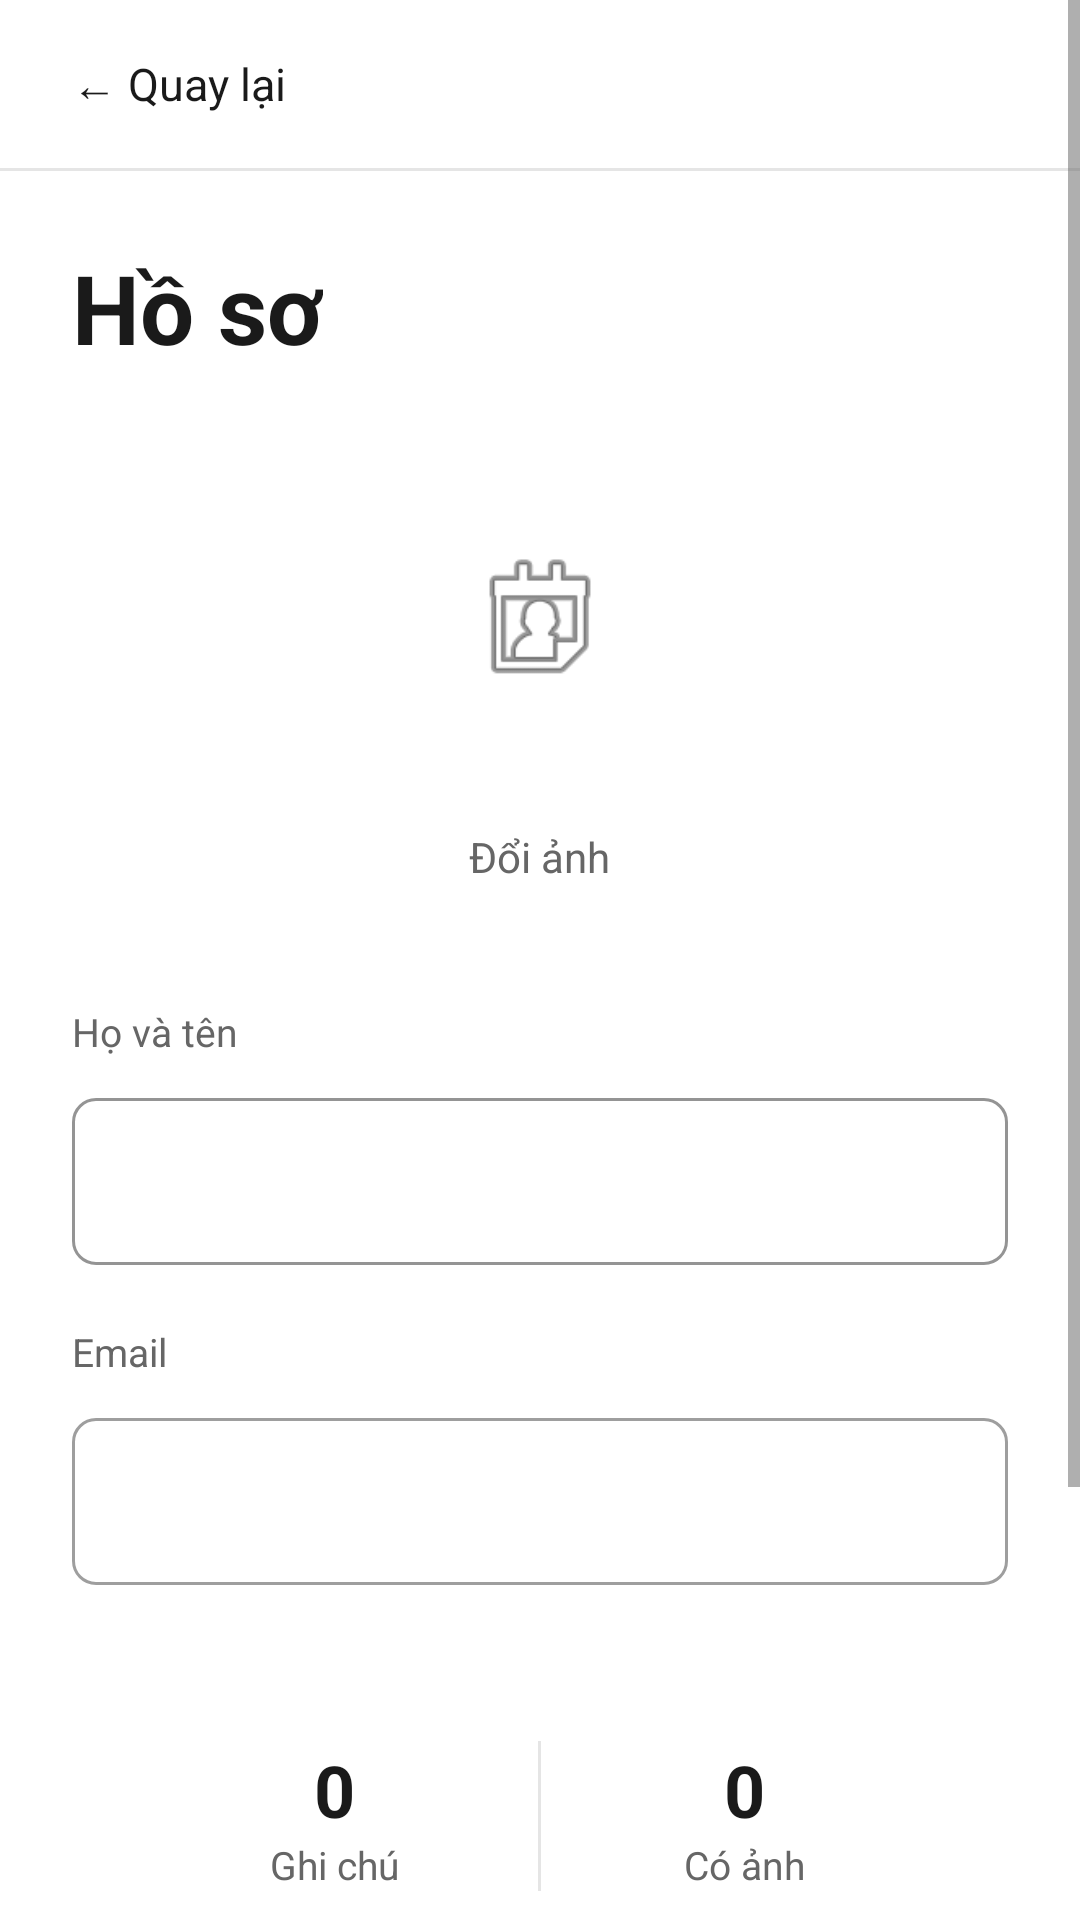

Screen size 1080 × 1920. Icon name, then its box in pixels as (x1, y1, x2, y2):
calendar: (489, 559, 591, 674)
